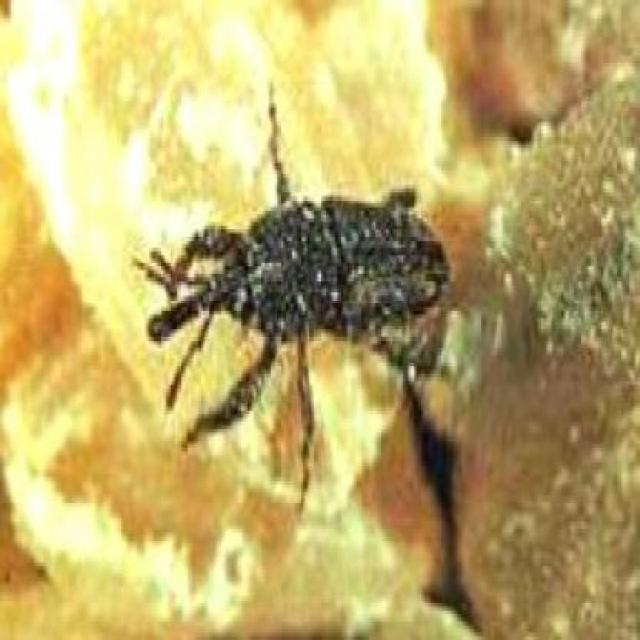rice-bug: (155, 140, 447, 449)
